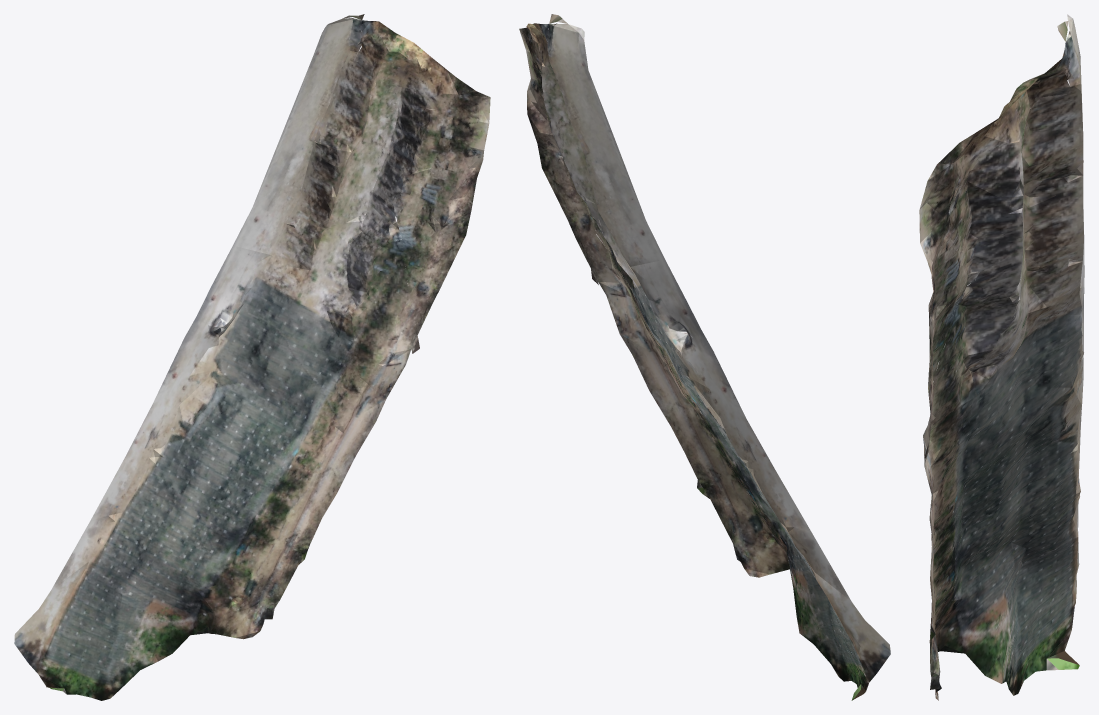
Rendered from T10_DEZEMBRO.glb.
3 views of the same model, side by side, from view 1: azimuth 30°, elevation 25°; view 2: azimuth 150°, elevation 25°; view 3: azimuth 270°, elevation 25° (orthographic). The views are drawn at different scales.
Parts seen in each view (by area): view 1: Bloco 1; view 2: Bloco 1; view 3: Bloco 1.
Boxes of the visible parts, <box> form: Bloco 1: <box>14,14,490,700</box>; Bloco 1: <box>519,14,890,700</box>; Bloco 1: <box>919,14,1084,700</box>.
Bounding box in the file's own units: 64.58 × 88.72 × 15.58.
1 material, 1 textured.
